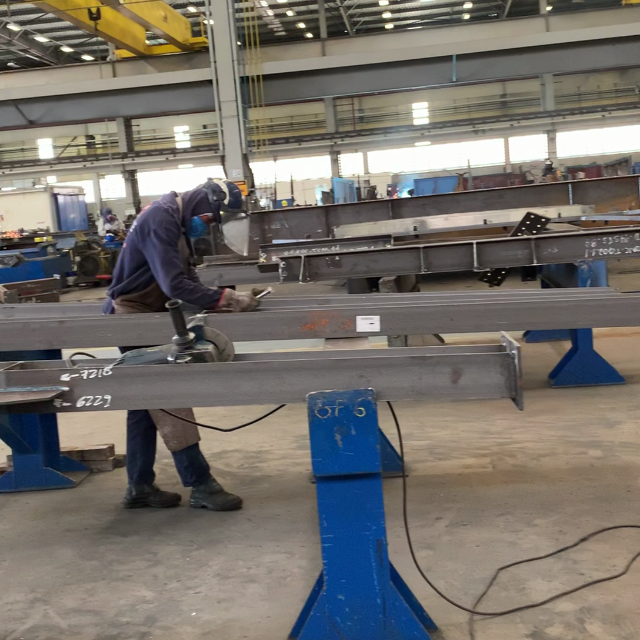glove: (220, 290, 267, 310)
helmet: (200, 181, 243, 218)
person: (107, 179, 265, 515)
safety-shoe: (187, 482, 242, 516), (123, 485, 182, 513)
